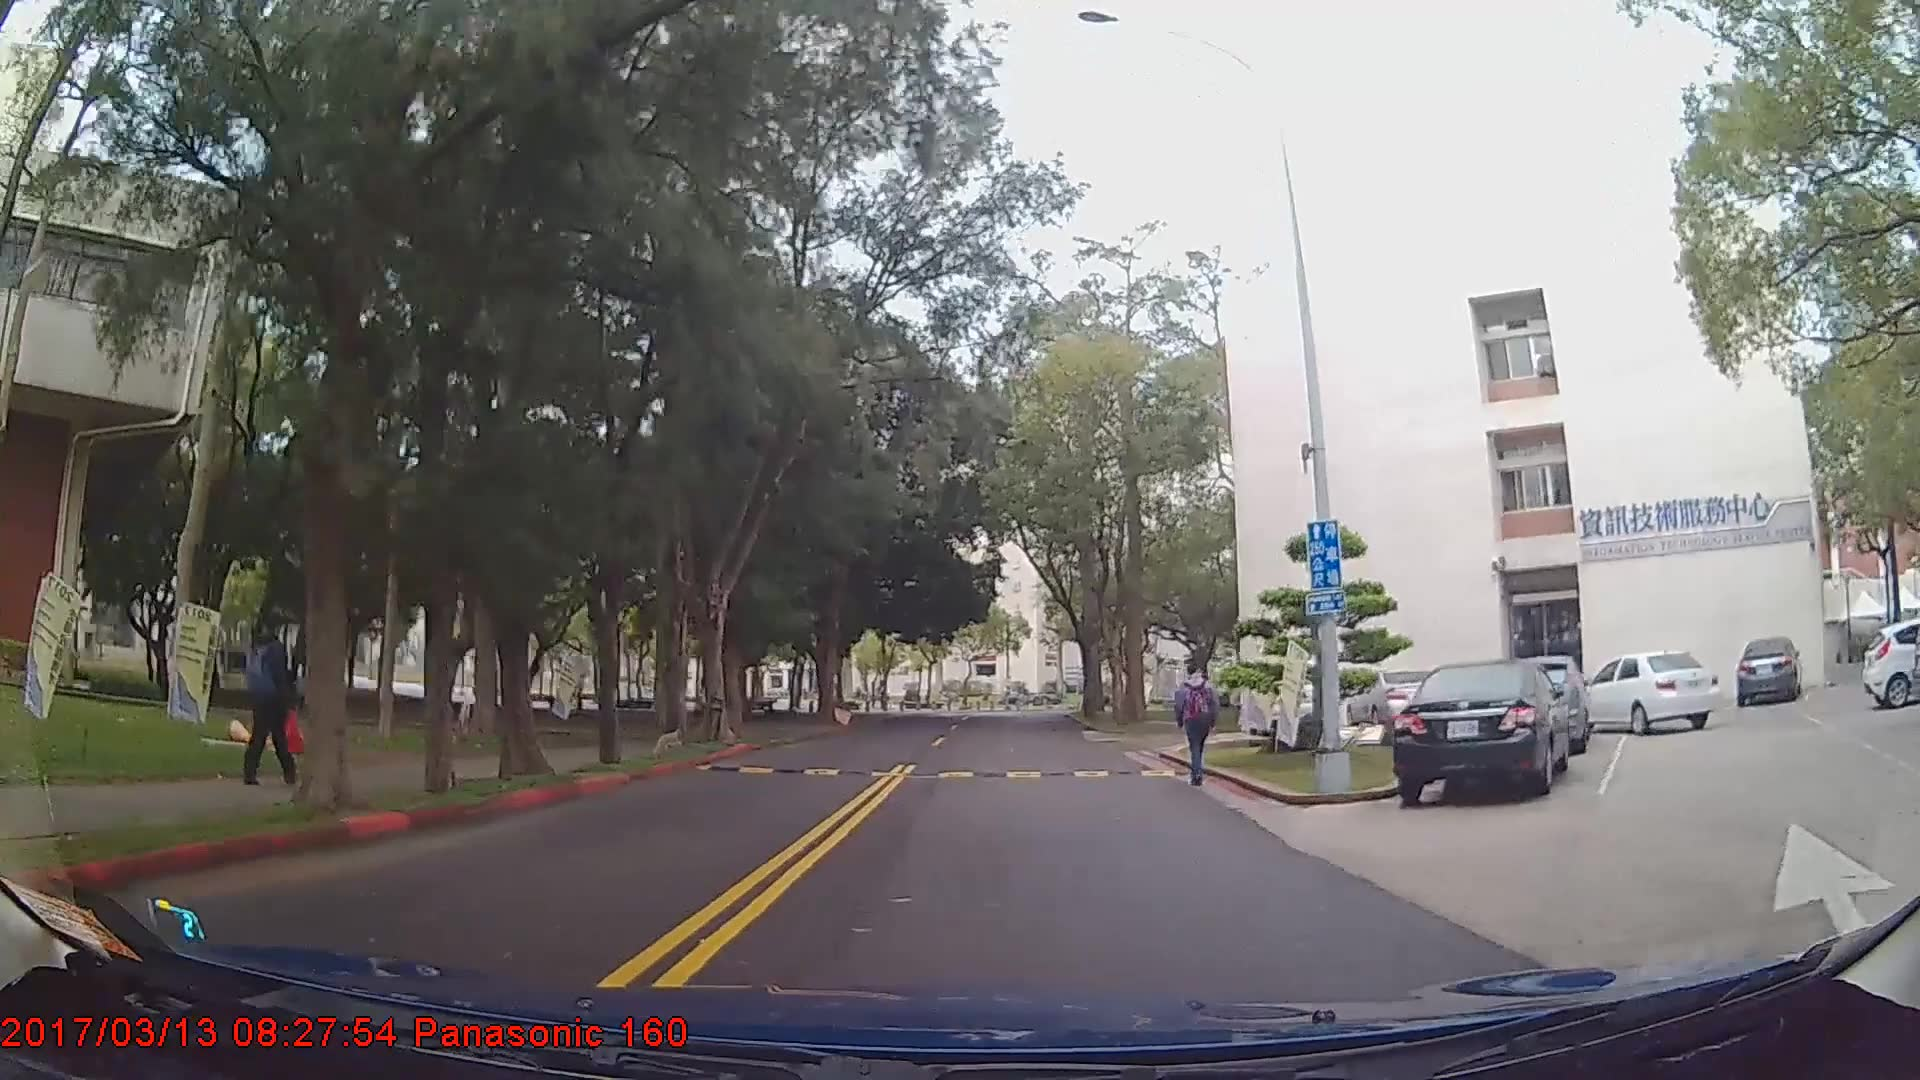pedestrian: (240, 608, 306, 791), (1171, 659, 1224, 788)
vehicle: (1392, 658, 1572, 808), (1580, 650, 1718, 737), (1860, 619, 1920, 711), (1345, 669, 1436, 727), (1734, 634, 1797, 709)
